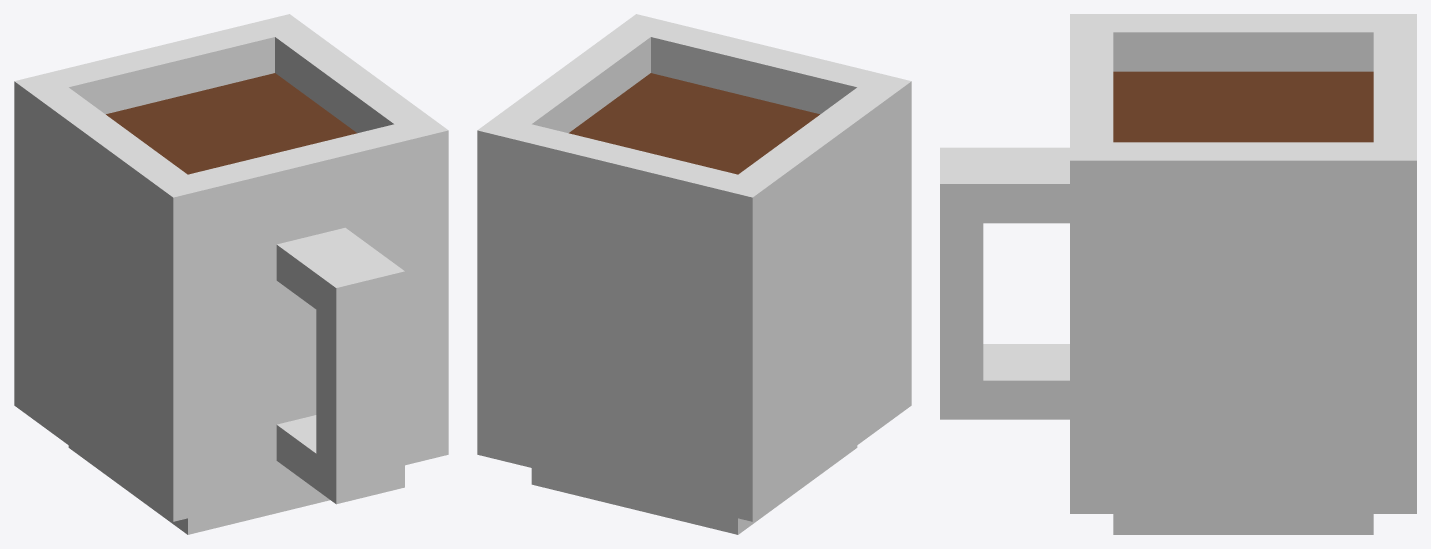
The model's file is Voxel Universe-40-Coffee.obj.
The picture shows the model from 3 angles, left to right: view 1: azimuth 30°, elevation 25°; view 2: azimuth 150°, elevation 25°; view 3: azimuth 270°, elevation 25°; orthographic projection. The views are drawn at different scales.
Visible parts, largest first — view 1: Coffee; view 2: Coffee; view 3: Coffee.
Part boxes in pixels (bbox=[...]): Coffee: bbox=[14, 14, 448, 534]; Coffee: bbox=[477, 14, 911, 534]; Coffee: bbox=[940, 14, 1416, 534].
Size of the model in its own units: 0.8 by 1 by 1.1.
Materials: 1 (1 with a texture image).
